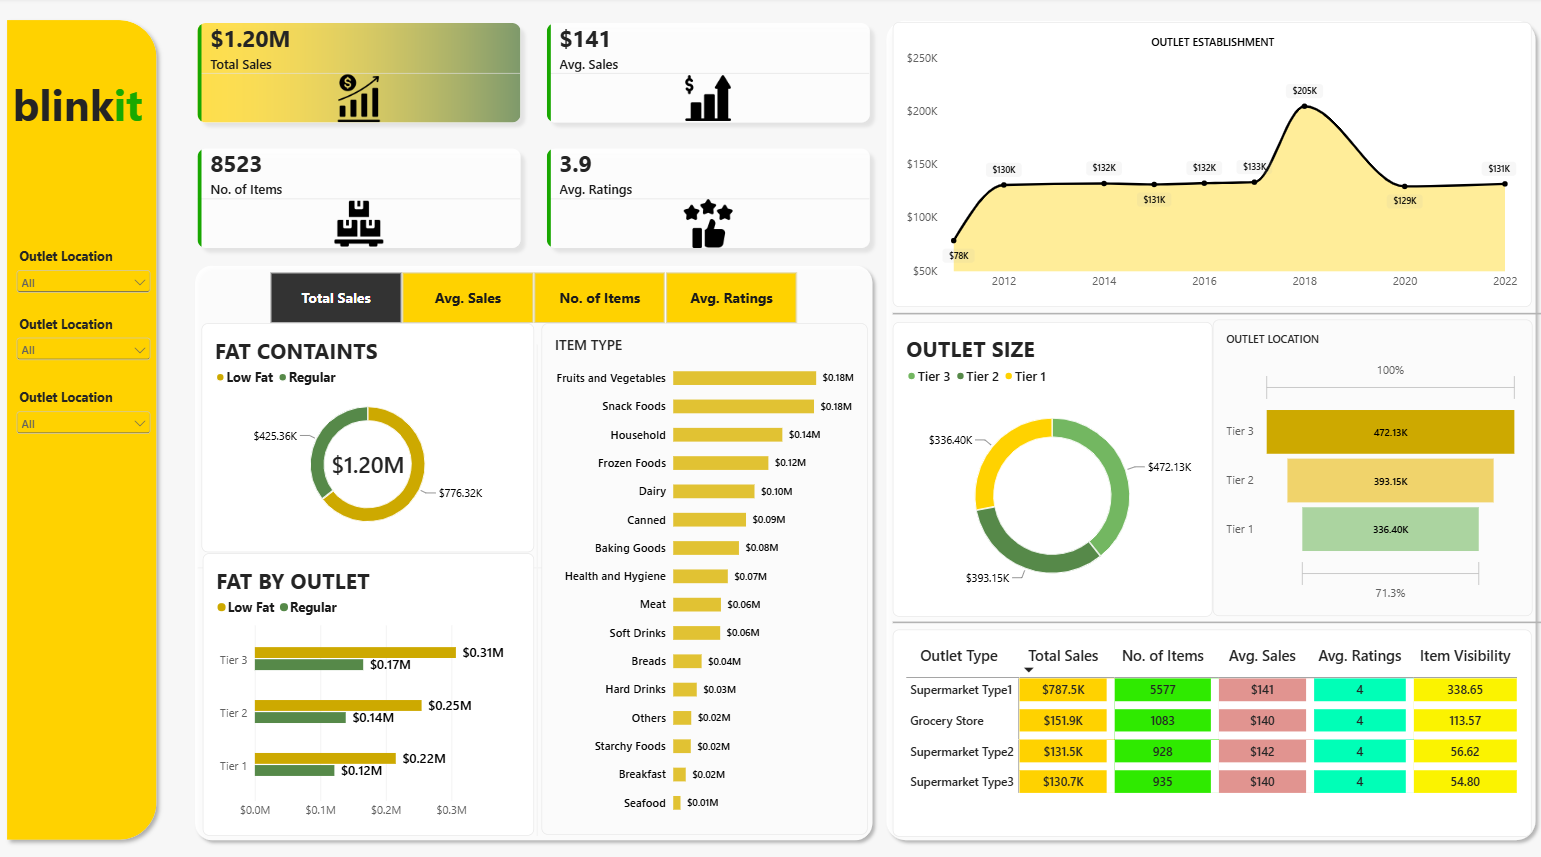

Layout of this report page (visuals, bound fields, positions):
{"tool":"powerbi","page":{"name":"Page 1","canvas":[1920,1080],"ordinal":0},"visuals":[{"type":"shape","box":[0,18.5,205.8,1039.5],"z":0},{"type":"textbox","box":[17.4,95.9,169.2,92.4],"z":1000},{"type":"cardVisual","fields":{"Data":["BlinkIT Grocery Data.Total Sales","BlinkIT Grocery Data.Avg. Sales","BlinkIT Grocery Data.No. of Items","BlinkIT Grocery Data.Avg. Ratings"]},"box":[234.6,20.6,860.4,304.6],"z":2000},{"type":"shape","box":[1095,20.6,825.4,1037.4],"z":3000},{"type":"shape","box":[234.6,325.2,860.4,732.8],"z":3000,"group":"g1"},{"type":"donutChart","title":"OUTLET SIZE","fields":{"Category":["BlinkIT Grocery Data.Outlet Location Type"],"Y":["BlinkIT Grocery Data.Total Sales"]},"box":[1111.5,403.4,397.3,366.4],"z":4000},{"type":"donutChart","title":"FAT CONTAINTS","fields":{"Category":["BlinkIT Grocery Data.Item Fat Content"],"Y":["BlinkIT Grocery Data.Total Sales"]},"box":[251.1,406.6,413.7,285],"z":4000,"group":"g1"},{"type":"slicer","fields":{"Values":["Parameter.Parameter"]},"box":[316.9,340.2,693.7,66.4],"z":5000,"group":"g1"},{"type":"shape","box":[656.6,432.2,26.8,611.3],"z":5000},{"type":"clusteredBarChart","title":"FAT BY OUTLET","fields":{"Category":["BlinkIT Grocery Data.Outlet Location Type"],"Series":["BlinkIT Grocery Data.Item Fat Content"],"Y":["BlinkIT Grocery Data.Total Sales"]},"box":[253.1,691.6,411.7,351.4],"z":6000,"group":"g1"},{"type":"shape","box":[247,701.9,428.1,14.4],"z":6000},{"type":"group","id":"g1","title":"Group 1","box":[234.6,325.2,860.4,732.8],"z":7000},{"type":"lineChart","title":"OUTLET ESTABLISHMENT","fields":{"Category":["BlinkIT Grocery Data.Outlet Establishment Year"],"Y":["BlinkIT Grocery Data.Total Sales"]},"box":[1111.5,30.9,794.5,354],"z":8000},{"type":"barChart","title":"ITEM TYPE","fields":{"Category":["BlinkIT Grocery Data.Item Type"],"Y":["BlinkIT Grocery Data.Total Sales"]},"box":[675.1,406.6,405.5,636.3],"z":8001,"group":"g1"},{"type":"shape","box":[1111.5,384.9,808.9,16.5],"z":9000},{"type":"funnel","title":"OUTLET LOCATION","fields":{"Category":["BlinkIT Grocery Data.Outlet Location Type"],"Y":["Sum(BlinkIT Grocery Data.Sales)"]},"box":[1508.8,401.4,397.3,368.4],"z":10000},{"type":"shape","box":[1111.5,769.8,808.9,16.5],"z":10001},{"type":"pivotTable","fields":{"Rows":["BlinkIT Grocery Data.Outlet Type"],"Values":["BlinkIT Grocery Data.Total Sales","BlinkIT Grocery Data.No. of Items","BlinkIT Grocery Data.Avg. Sales","BlinkIT Grocery Data.Avg. Ratings","Sum(BlinkIT Grocery Data.Item Visibility)"]},"box":[1111.5,786.3,794.5,257.3],"z":10002},{"type":"slicer","fields":{"Values":["BlinkIT Grocery Data.Outlet Location Type"]},"box":[17.4,311.2,176.2,68],"z":10003},{"type":"slicer","fields":{"Values":["BlinkIT Grocery Data.Outlet Size"]},"box":[17.4,395,176.2,68],"z":10004},{"type":"slicer","fields":{"Values":["BlinkIT Grocery Data.Item Type"]},"box":[17.4,487.1,176.2,68],"z":10005}]}

Visuals, with their boxes in screenshot pixels (x1, y1, x2, y2), scaled from the page's 1920x1080 canvas onto the 1541x857 screenshot:
shape: {"x1": 0, "y1": 15, "x2": 165, "y2": 840}
textbox: {"x1": 14, "y1": 76, "x2": 150, "y2": 149}
cardVisual - BlinkIT Grocery Data.Total Sales x BlinkIT Grocery Data.Avg. Sales: {"x1": 188, "y1": 16, "x2": 879, "y2": 258}
shape: {"x1": 879, "y1": 16, "x2": 1540, "y2": 840}
shape: {"x1": 188, "y1": 258, "x2": 879, "y2": 840}
"OUTLET SIZE" donutChart: {"x1": 892, "y1": 320, "x2": 1211, "y2": 611}
"FAT CONTAINTS" donutChart: {"x1": 202, "y1": 323, "x2": 534, "y2": 549}
slicer - Parameter.Parameter: {"x1": 254, "y1": 270, "x2": 811, "y2": 323}
shape: {"x1": 527, "y1": 343, "x2": 548, "y2": 828}
"FAT BY OUTLET" clusteredBarChart: {"x1": 203, "y1": 549, "x2": 534, "y2": 828}
shape: {"x1": 198, "y1": 557, "x2": 542, "y2": 568}
"Group 1" group: {"x1": 188, "y1": 258, "x2": 879, "y2": 840}
"OUTLET ESTABLISHMENT" lineChart: {"x1": 892, "y1": 25, "x2": 1530, "y2": 305}
"ITEM TYPE" barChart: {"x1": 542, "y1": 323, "x2": 867, "y2": 828}
shape: {"x1": 892, "y1": 305, "x2": 1540, "y2": 319}
"OUTLET LOCATION" funnel: {"x1": 1211, "y1": 319, "x2": 1530, "y2": 611}
shape: {"x1": 892, "y1": 611, "x2": 1540, "y2": 624}
pivotTable - BlinkIT Grocery Data.Outlet Type x BlinkIT Grocery Data.Total Sales: {"x1": 892, "y1": 624, "x2": 1530, "y2": 828}
slicer - BlinkIT Grocery Data.Outlet Location Type: {"x1": 14, "y1": 247, "x2": 155, "y2": 301}
slicer - BlinkIT Grocery Data.Outlet Size: {"x1": 14, "y1": 313, "x2": 155, "y2": 367}
slicer - BlinkIT Grocery Data.Item Type: {"x1": 14, "y1": 387, "x2": 155, "y2": 440}
